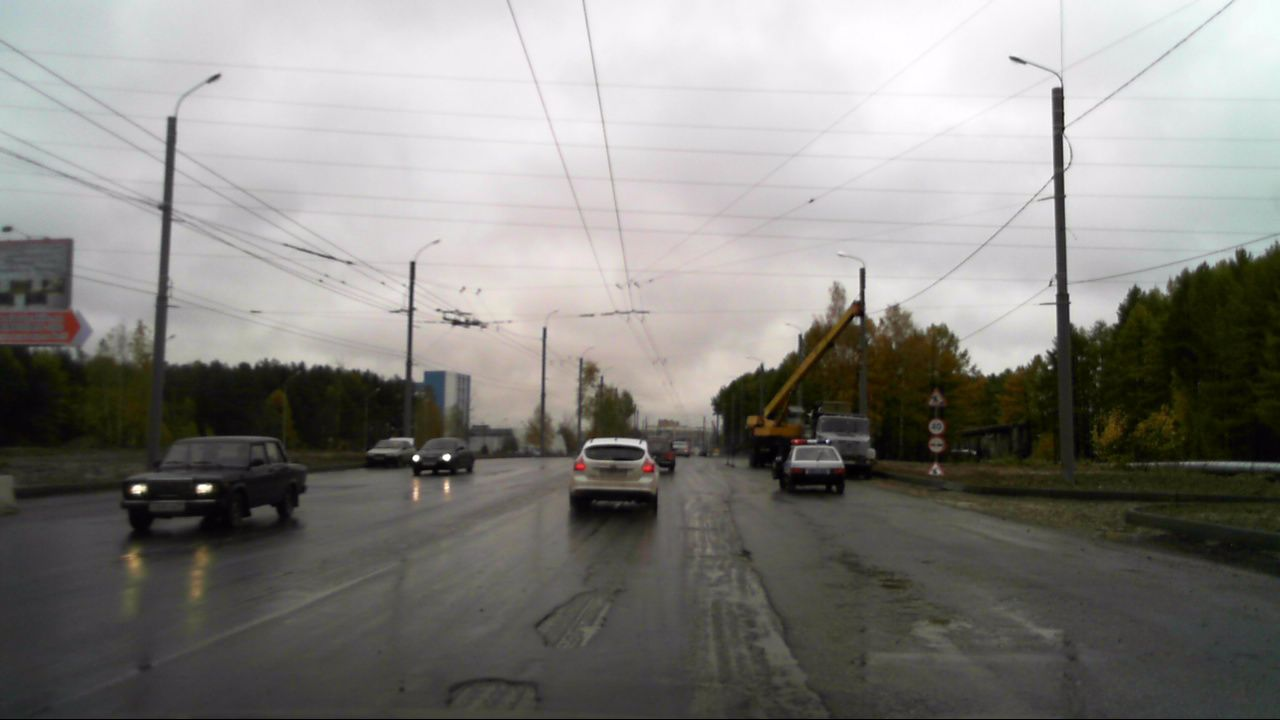speed_warning_40: (928, 416, 944, 433)
